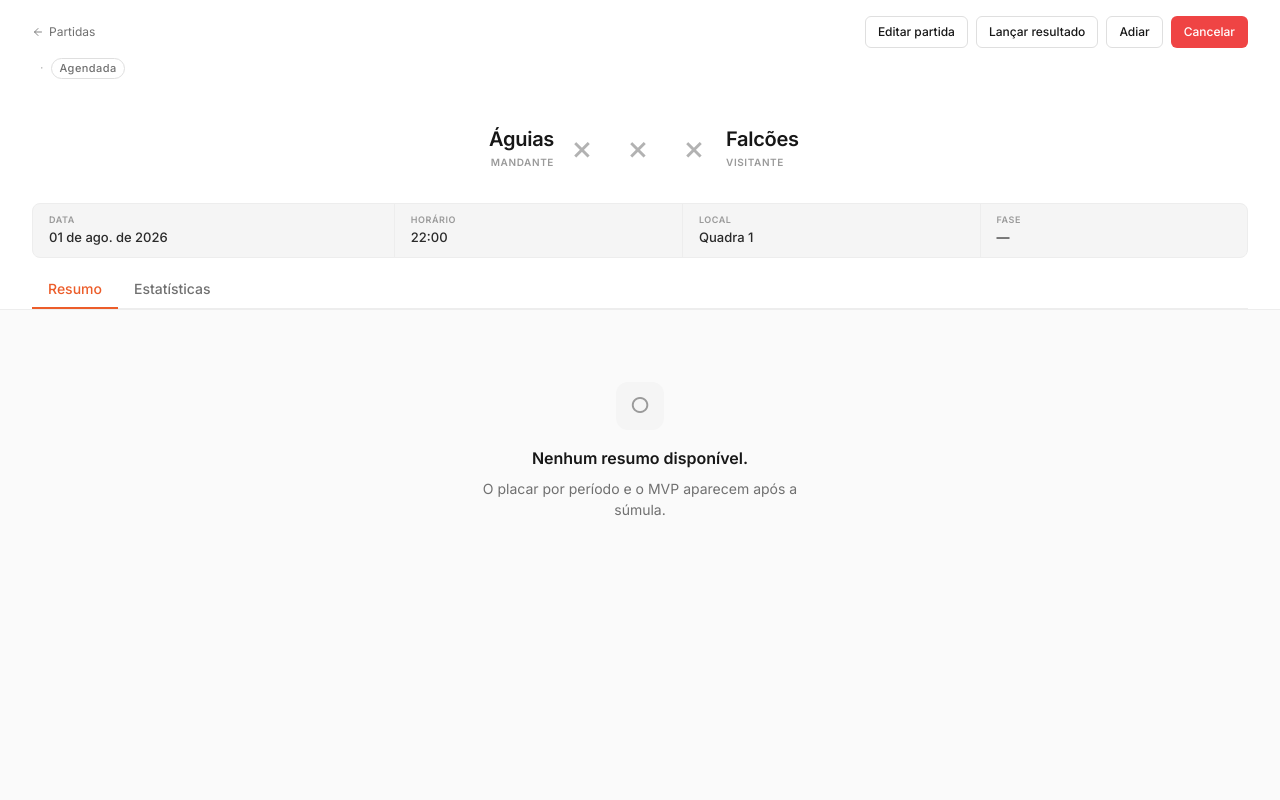
MatchDetailPage — admin actions › asks for inline confirmation before postponing
This screenshot has width=1280, height=800.
Click the button "Adiar" at coordinates (1135, 32), box [1106, 16, 1163, 48]
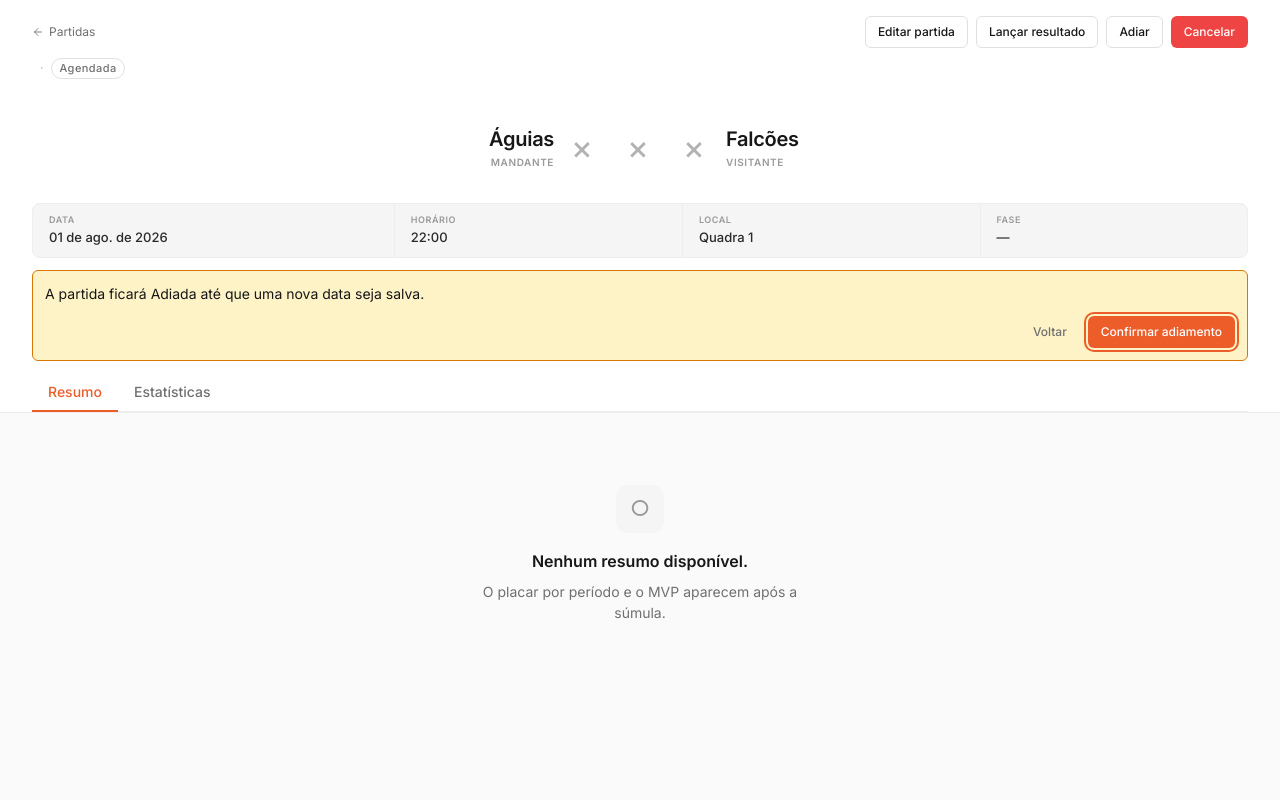
Result: the dialog shows "A partida ficará Adiada até que uma nova data seja salva." at [45, 284, 424, 302]
